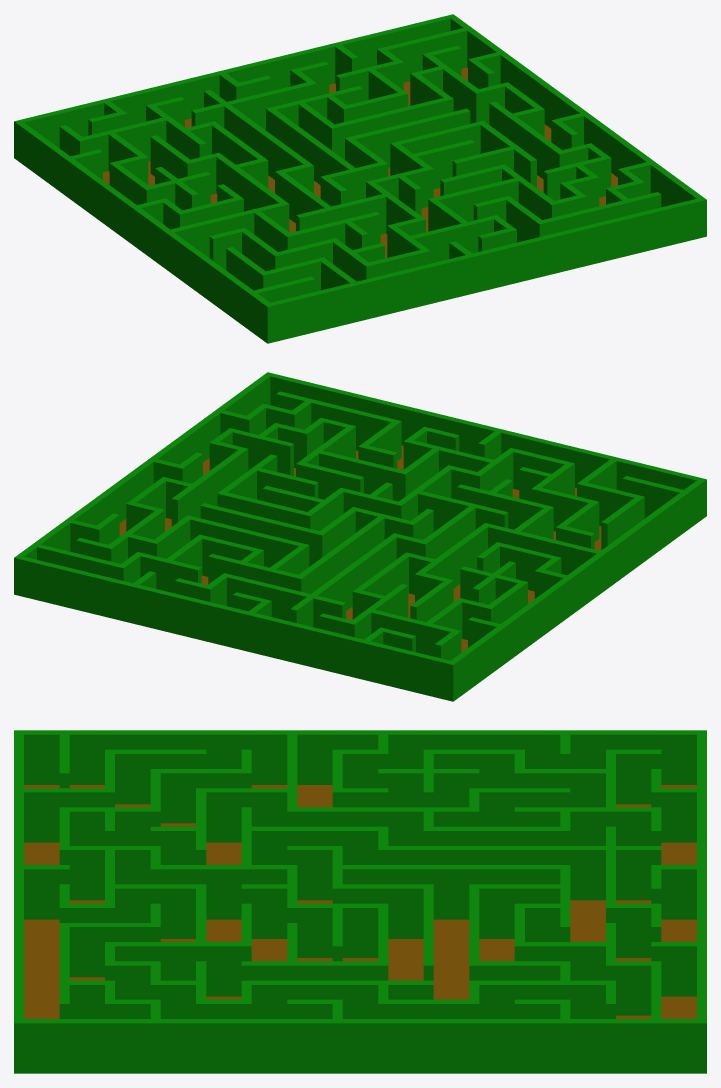
File: Level45Graund.FBX
The picture shows the model from 3 angles, top to bottom: view 1: azimuth 30°, elevation 25°; view 2: azimuth 150°, elevation 25°; view 3: azimuth 270°, elevation 25°; orthographic projection. The views are drawn at different scales.
Visible parts, largest first — view 1: Labyrinth003; view 2: Labyrinth003; view 3: Labyrinth003.
Part boxes in pixels (<box>): Labyrinth003: <box>14,14,706,343</box>; Labyrinth003: <box>14,372,706,701</box>; Labyrinth003: <box>14,730,706,1073</box>.
Bounding box in the file's own units: 350 × 28 × 350.
